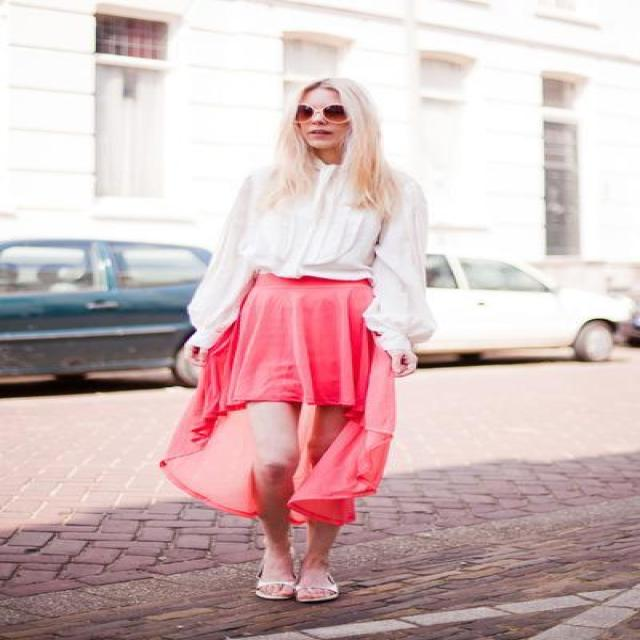shirt: (187, 159, 440, 344)
shoe: (256, 552, 336, 600)
skirt: (158, 270, 413, 524)
sunglass: (296, 106, 346, 120)
